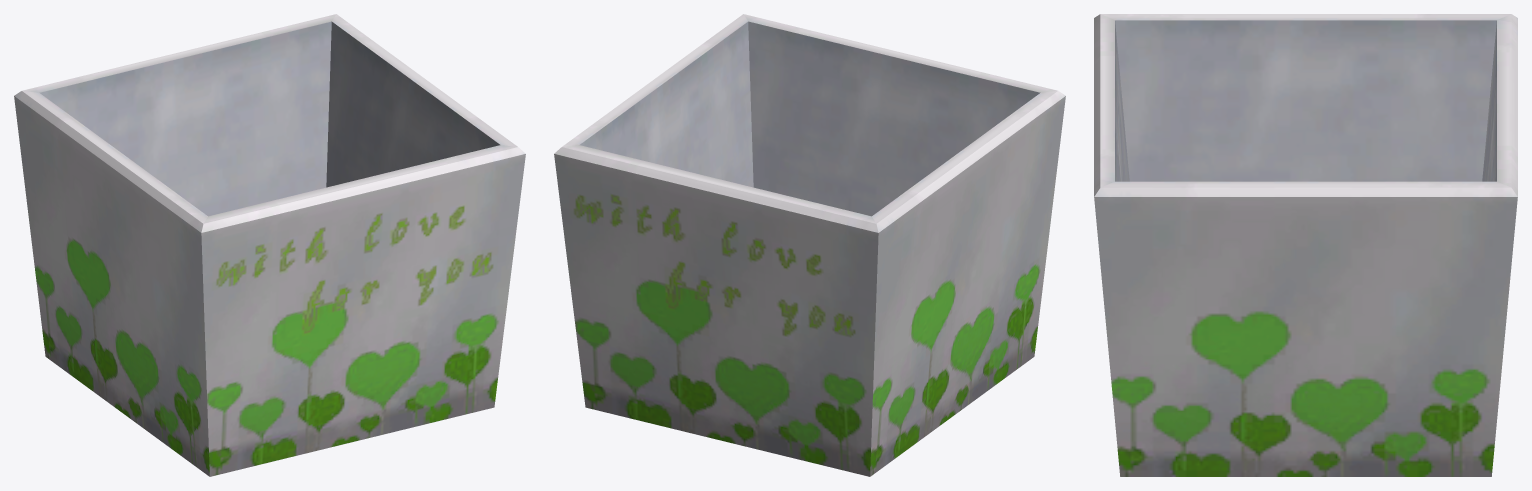
File: furni_0200144_02.FBX
3 views of the same model, side by side, from view 1: azimuth 30°, elevation 25°; view 2: azimuth 150°, elevation 25°; view 3: azimuth 270°, elevation 25° (orthographic). The views are drawn at different scales.
Visible parts, largest first — view 1: furni_0200144_02; view 2: furni_0200144_02; view 3: furni_0200144_02.
Boxes of the visible parts, left/top/right/bottom form: furni_0200144_02: left=14, top=14, right=525, bottom=476; furni_0200144_02: left=554, top=14, right=1065, bottom=476; furni_0200144_02: left=1094, top=14, right=1517, bottom=476.
Size of the model in its own units: 39.75 by 30.81 by 39.75.
